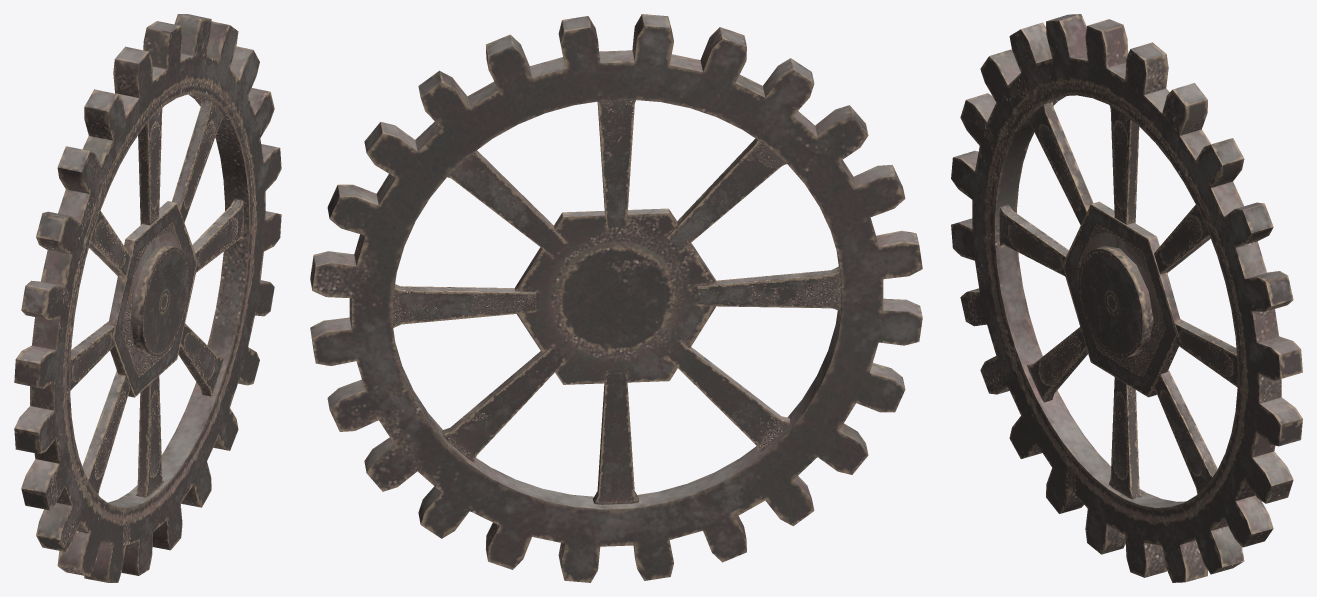
3 renders of one model, left to right at view 1: azimuth 30°, elevation 25°; view 2: azimuth 150°, elevation 25°; view 3: azimuth 270°, elevation 25°, orthographic. The views are drawn at different scales.
Visible parts, largest first — view 1: SM_gearmid001__1_; view 2: SM_gearmid001__1_; view 3: SM_gearmid001__1_.
Boxes of the visible parts, x1,y1,x2,y2 form: SM_gearmid001__1_: (14, 14, 281, 582); SM_gearmid001__1_: (310, 14, 922, 582); SM_gearmid001__1_: (951, 14, 1302, 582).
Size of the model in its own units: 47.22 by 55.74 by 33.96.
